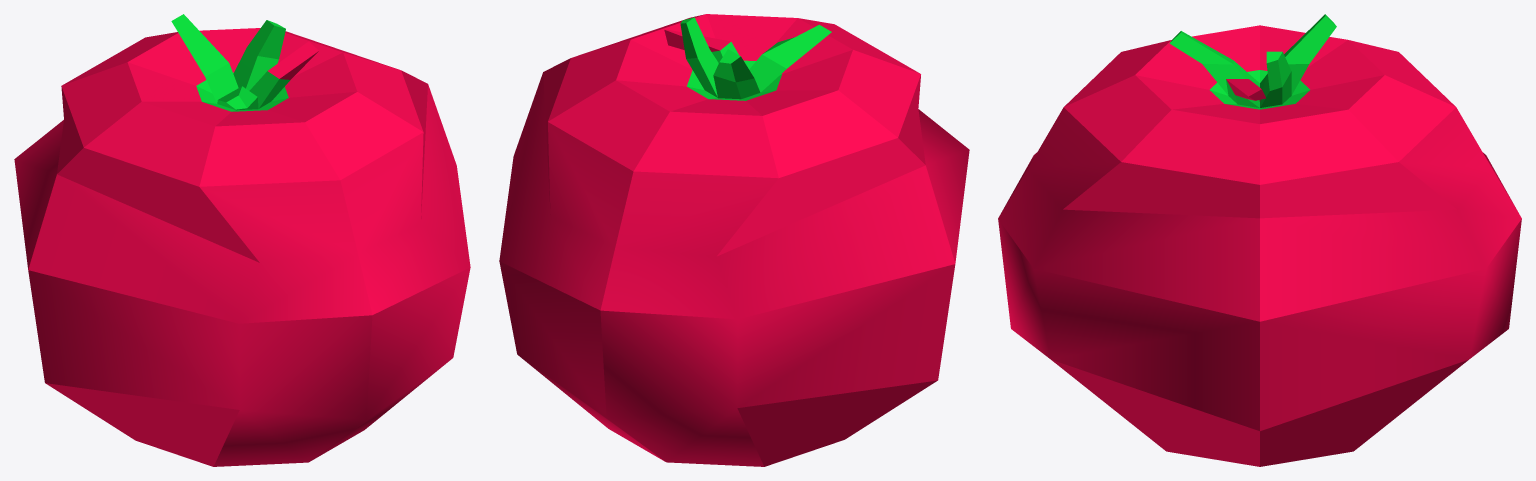
The model's file is Municao_Tomate.fbx.
The picture shows the model from 3 angles, left to right: view 1: azimuth 30°, elevation 25°; view 2: azimuth 150°, elevation 25°; view 3: azimuth 270°, elevation 25°; orthographic projection. The views are drawn at different scales.
Parts seen in each view (by area): view 1: TOMATO.001; view 2: TOMATO.001; view 3: TOMATO.001.
Part boxes in pixels (bbox=[...]): TOMATO.001: bbox=[14, 14, 470, 466]; TOMATO.001: bbox=[499, 14, 969, 466]; TOMATO.001: bbox=[998, 14, 1521, 466].
Bounding box in the file's own units: 15.14 × 13.48 × 15.92.
